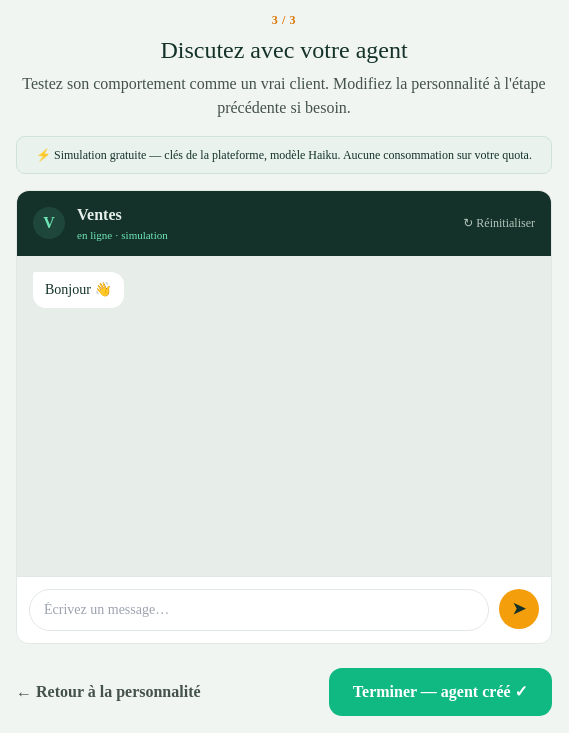
Test: affiche le message d'accueil et envoie un message gratuit
Expected: the text "Bonjour 👋" is shown, [33,272,124,308]
Type "Salut" into the field with placeholder "Écrivez un message…". click: [259, 610]
box: [29,588,489,630]
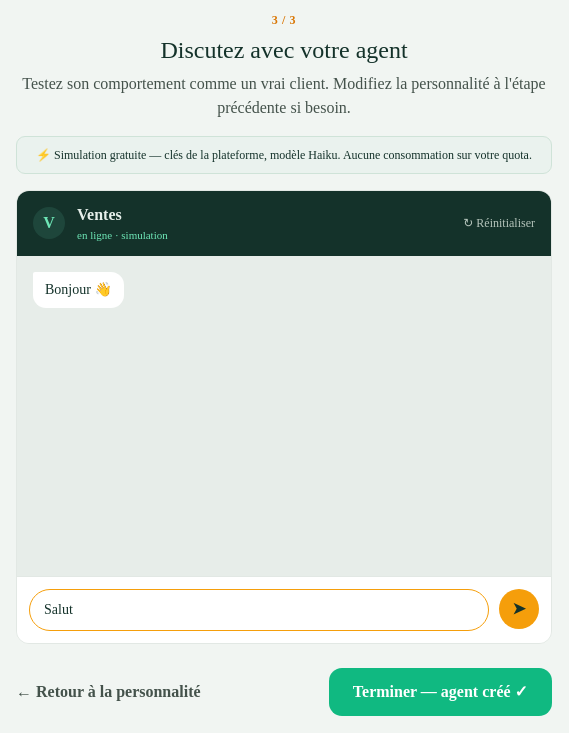
Press Enter
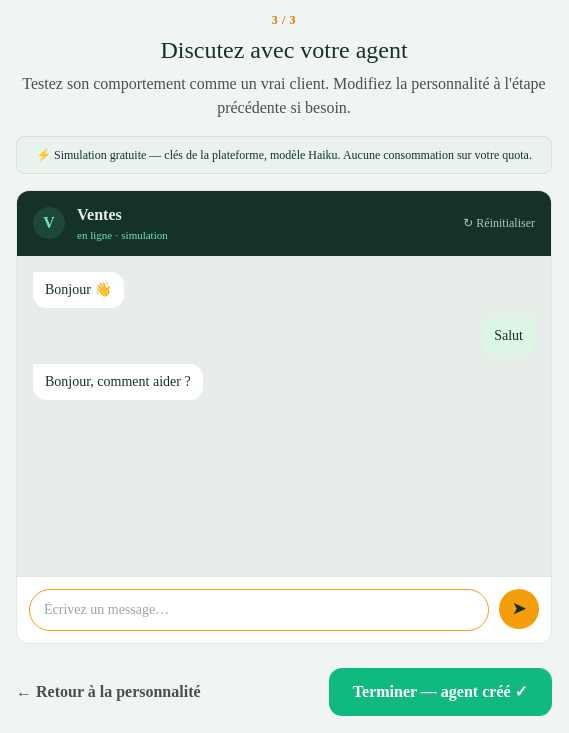
Expected: the text "Bonjour, comment aider ?" is shown, [33,364,203,400]
